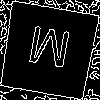M: (23, 25, 73, 78)
